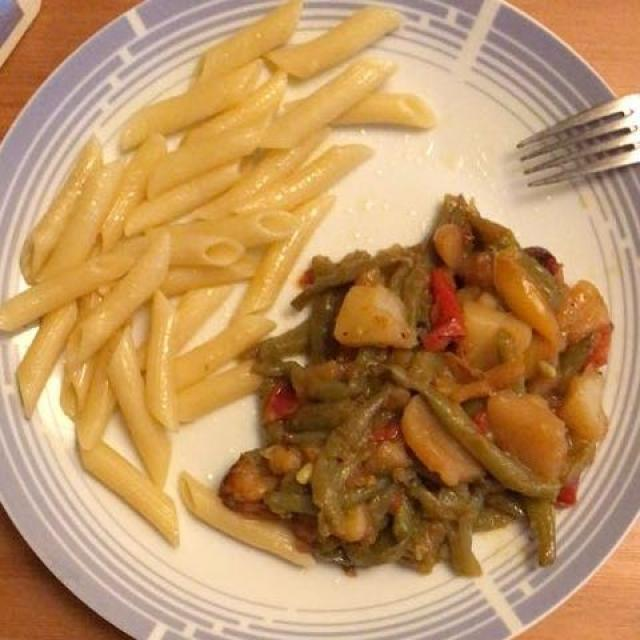beans: (239, 189, 572, 560)
bell-pepper: (417, 266, 474, 358)
pasta: (19, 21, 425, 523)
potatoes: (346, 272, 612, 509)
